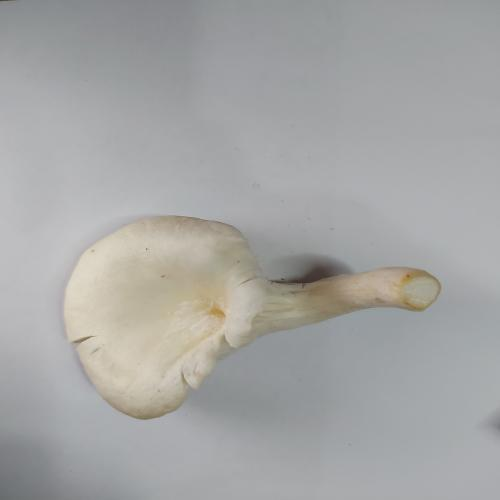Oyster Mushroom: (62, 214, 442, 420)
